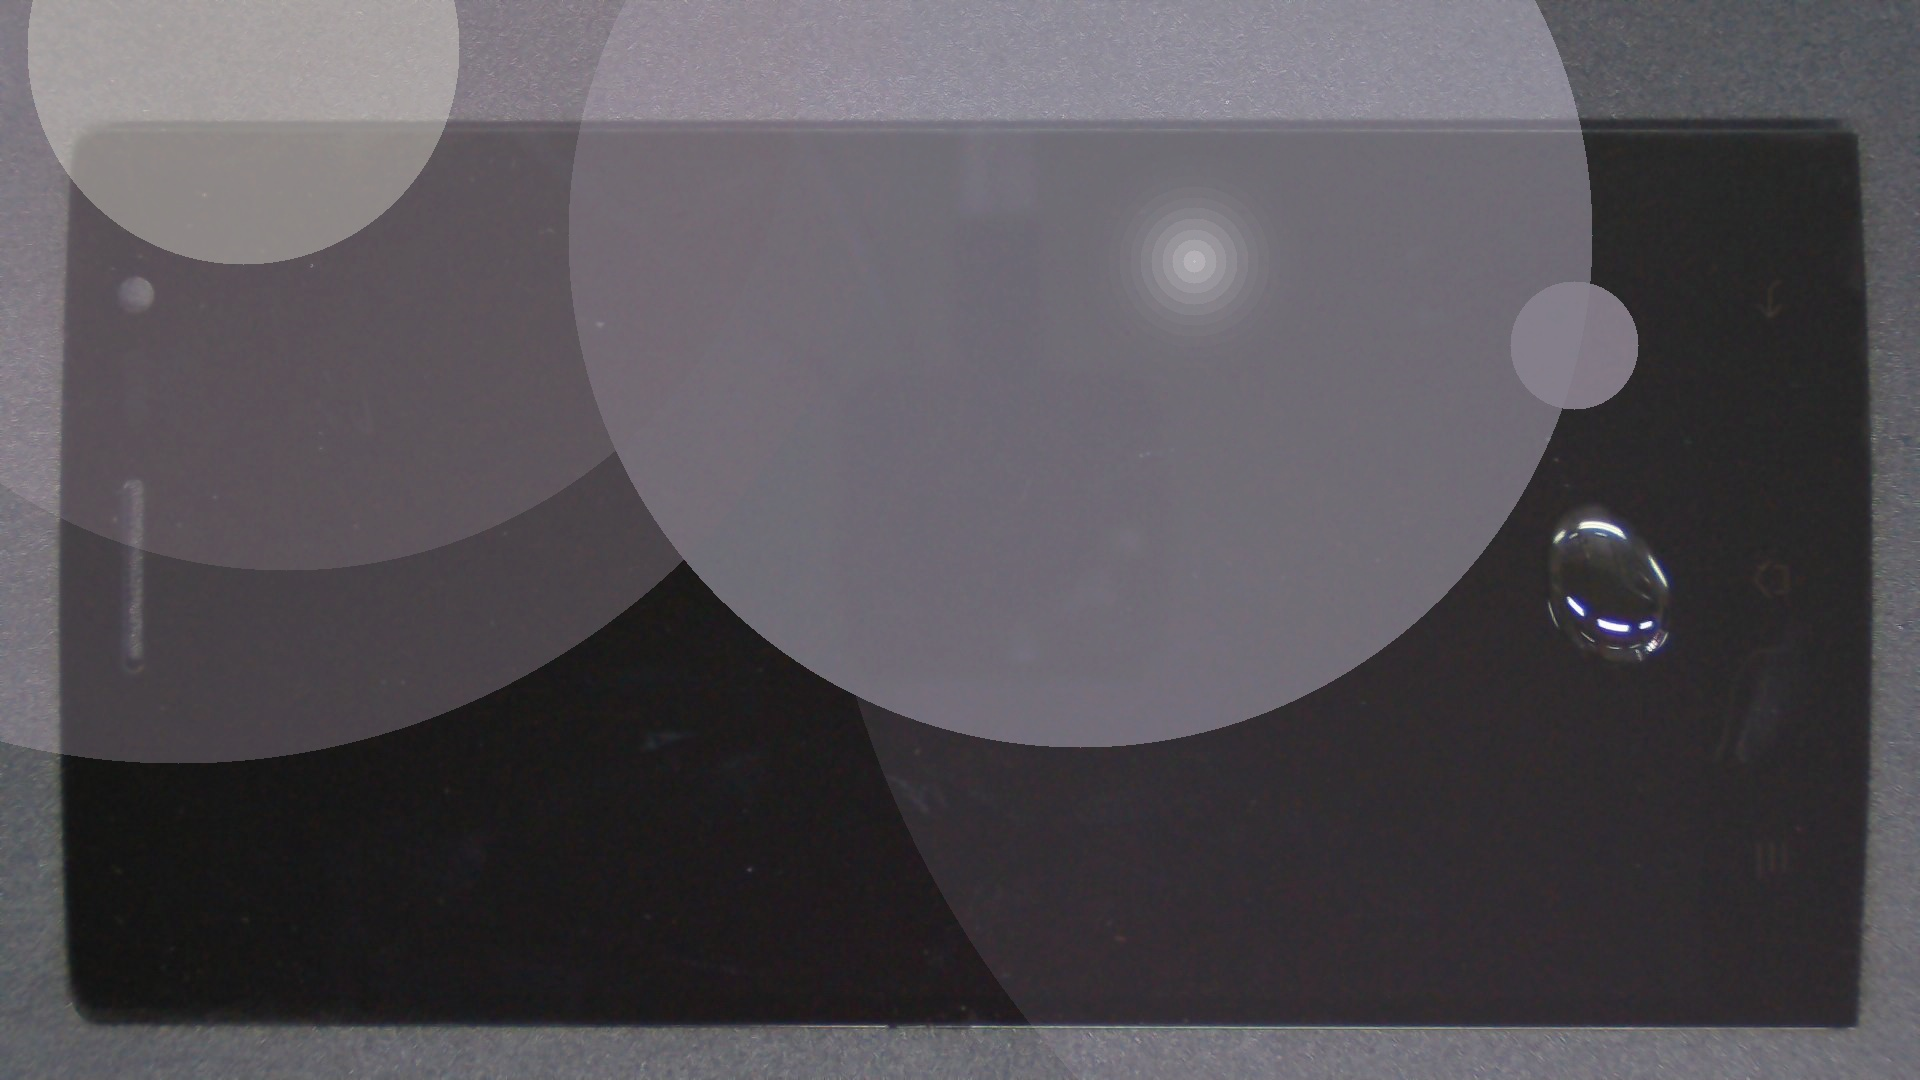oil: (793, 252, 1920, 760)
